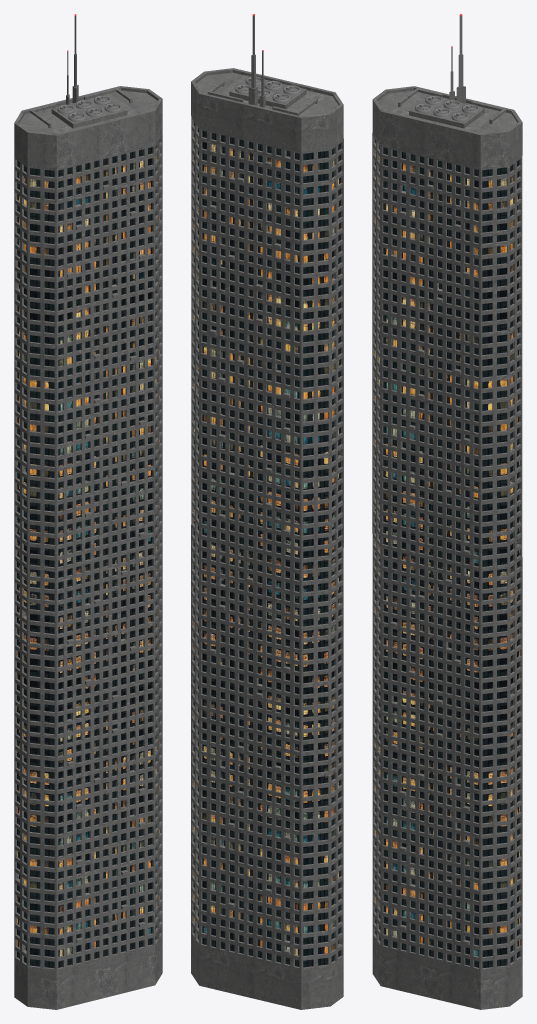
File: quality-skyscraper-rounded.glb
3 renders of one model, left to right at view 1: azimuth 30°, elevation 25°; view 2: azimuth 150°, elevation 25°; view 3: azimuth 330°, elevation 25°, orthographic. The views are drawn at different scales.
Parts seen in each view (by area): view 1: quality-skyscraper-rounded; view 2: quality-skyscraper-rounded; view 3: quality-skyscraper-rounded.
Part boxes in pixels (box(x1,y1,x2,y2)): quality-skyscraper-rounded: box(14, 14, 162, 1009); quality-skyscraper-rounded: box(191, 14, 343, 1009); quality-skyscraper-rounded: box(372, 14, 522, 1009).
Size of the model in its own units: 55.48 by 374 by 26.07.
4 materials, 2 textured.
